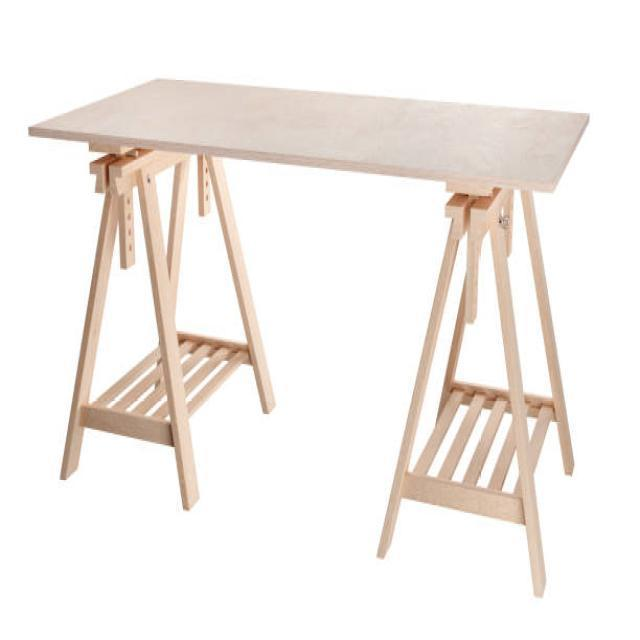table: (27, 74, 590, 596)
